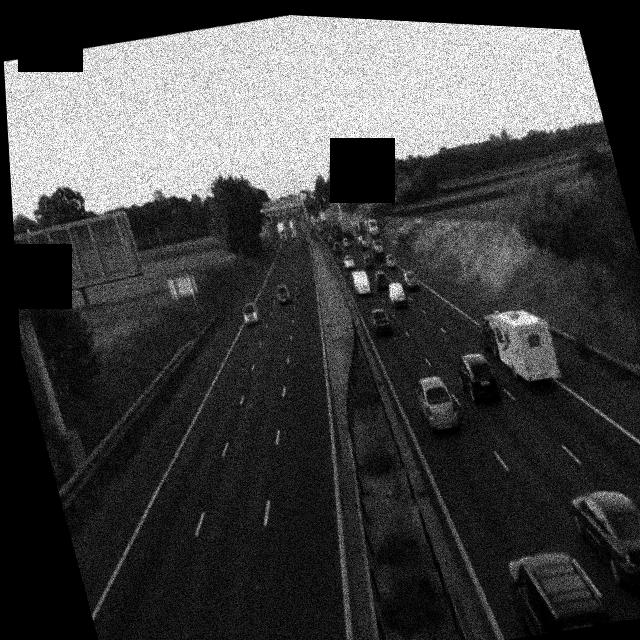car: (503, 540, 613, 640), (566, 478, 640, 603), (413, 372, 462, 434), (451, 347, 502, 405), (366, 303, 394, 338), (240, 300, 261, 327), (400, 266, 421, 292), (372, 269, 392, 294), (273, 282, 293, 305), (384, 254, 402, 273), (362, 252, 378, 271), (332, 240, 345, 255)
truck: (481, 300, 563, 391), (360, 216, 386, 256), (348, 260, 372, 296), (382, 275, 408, 308), (275, 219, 289, 242)
